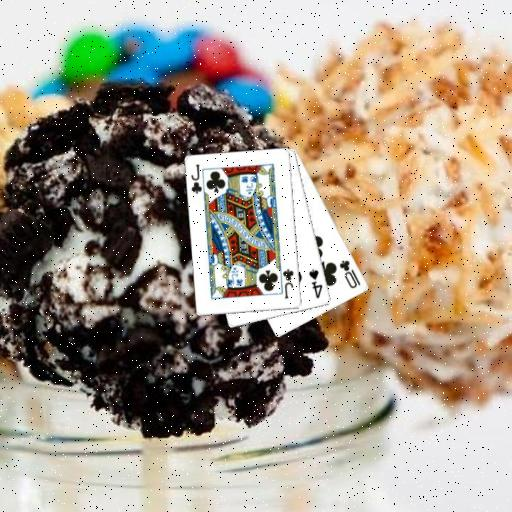10C: (336, 257, 362, 291)
4S: (306, 266, 324, 300)
JC: (188, 161, 204, 195), (280, 266, 295, 300)
